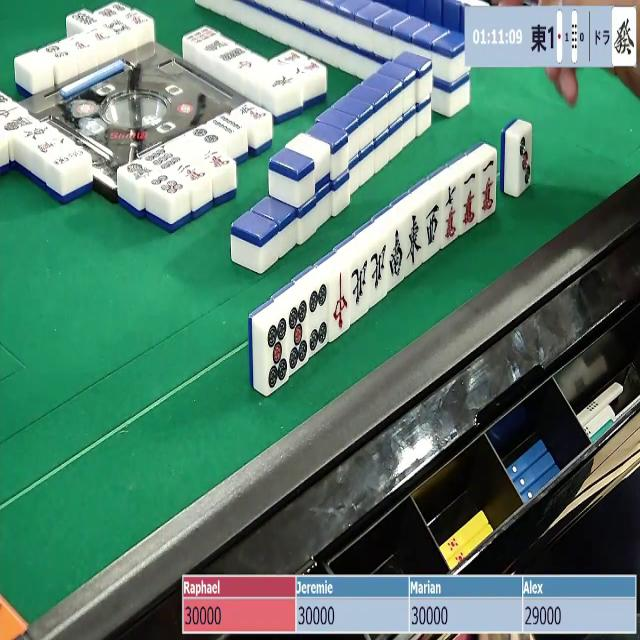east: (407, 211, 424, 273)
fa: (614, 7, 640, 62)
m1: (459, 170, 478, 231), (480, 157, 496, 218)
m7: (443, 183, 461, 246)
north: (368, 242, 386, 298), (351, 258, 368, 312)
south: (388, 228, 404, 286)
t3: (518, 132, 532, 192)
t4: (308, 283, 330, 355)
t5: (267, 317, 289, 394), (287, 301, 308, 374)
west: (425, 198, 442, 255)
zhong: (332, 270, 351, 338)
